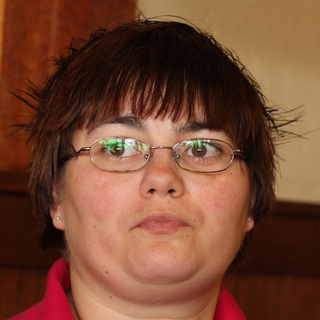eye: (183, 138, 226, 162)
